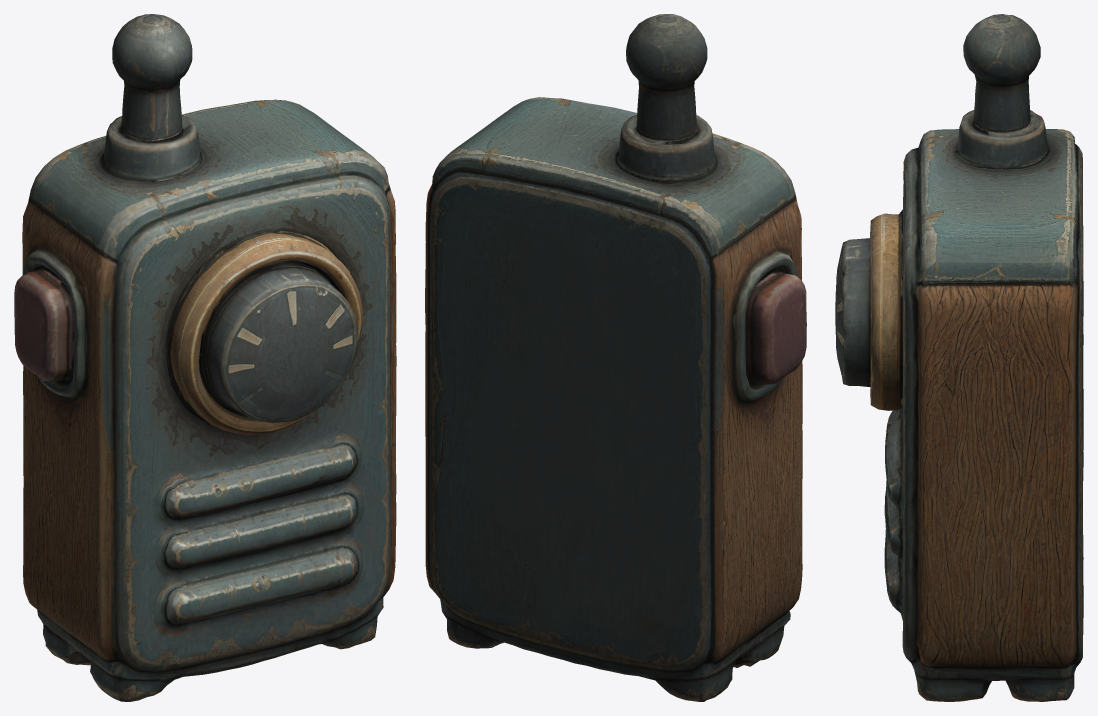
Rendered from Prop_Radio.fbx.
3 views of the same model, side by side, from view 1: azimuth 30°, elevation 25°; view 2: azimuth 150°, elevation 25°; view 3: azimuth 270°, elevation 25° (orthographic). The views are drawn at different scales.
Visible parts, largest first — view 1: texture_mapping; view 2: texture_mapping; view 3: texture_mapping.
Boxes of the visible parts, x1=… form: texture_mapping: x1=14, y1=14, x2=396, y2=701; texture_mapping: x1=425, y1=14, x2=806, y2=701; texture_mapping: x1=835, y1=14, x2=1083, y2=701.
Size of the model in its own units: 0.5374 by 0.3756 by 1.
Materials: 1 (1 with a texture image).
